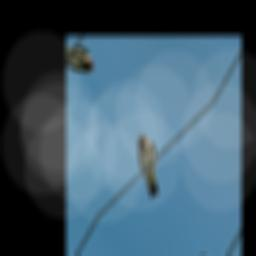Swallow: (121, 129, 174, 202)
